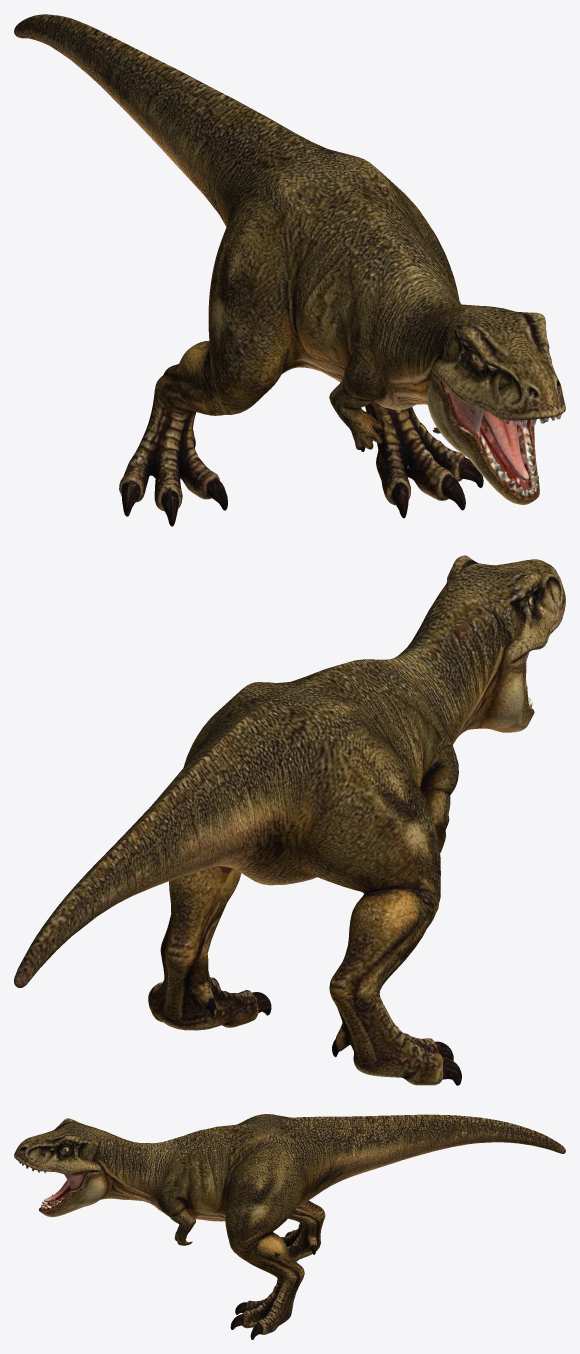
File: trex.glb
The picture shows the model from 3 angles, top to bottom: view 1: azimuth 30°, elevation 25°; view 2: azimuth 150°, elevation 25°; view 3: azimuth 270°, elevation 25°; orthographic projection. The views are drawn at different scales.
Parts seen in each view (by area): view 1: world; view 2: world; view 3: world.
Part boxes in pixels (box(x1,y1,x2,y2)): world: box(14, 14, 565, 526); world: box(14, 555, 565, 1085); world: box(14, 1114, 565, 1339).
Bounding box in the file's own units: 0.7159 × 0.7437 × 2.
1 material, 1 textured.
